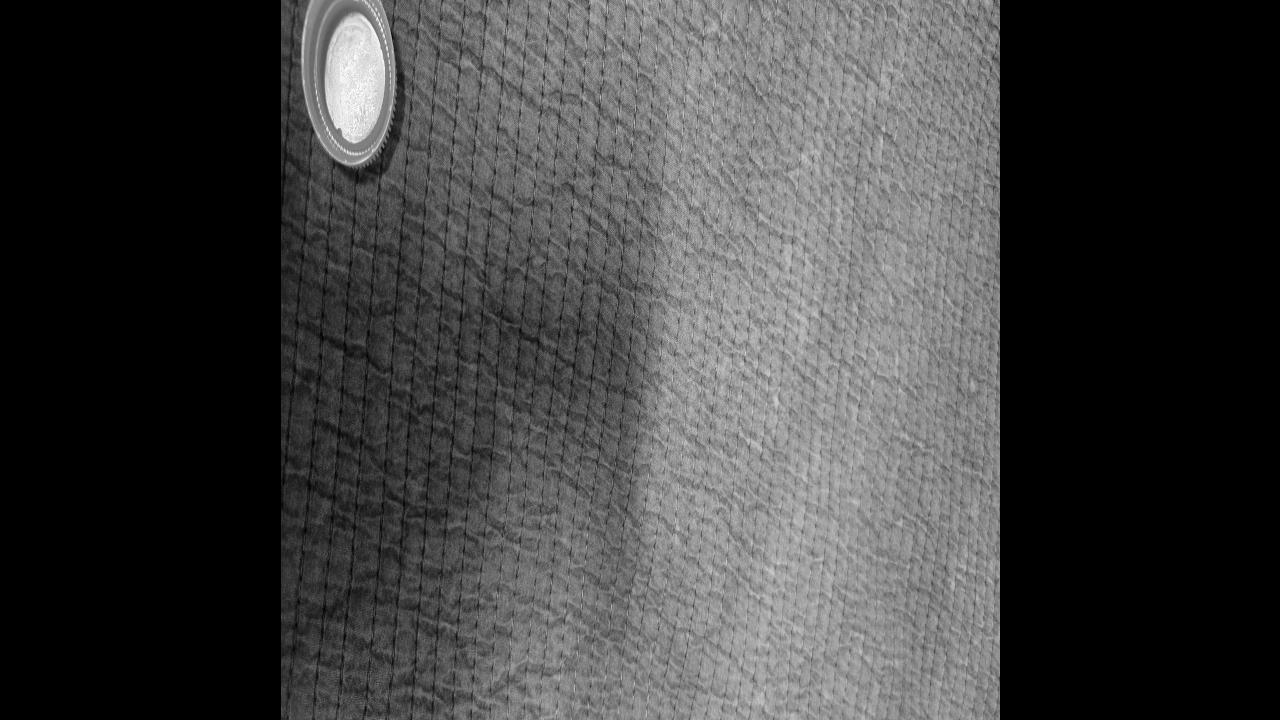bottle_cap: (301, 0, 397, 169)
